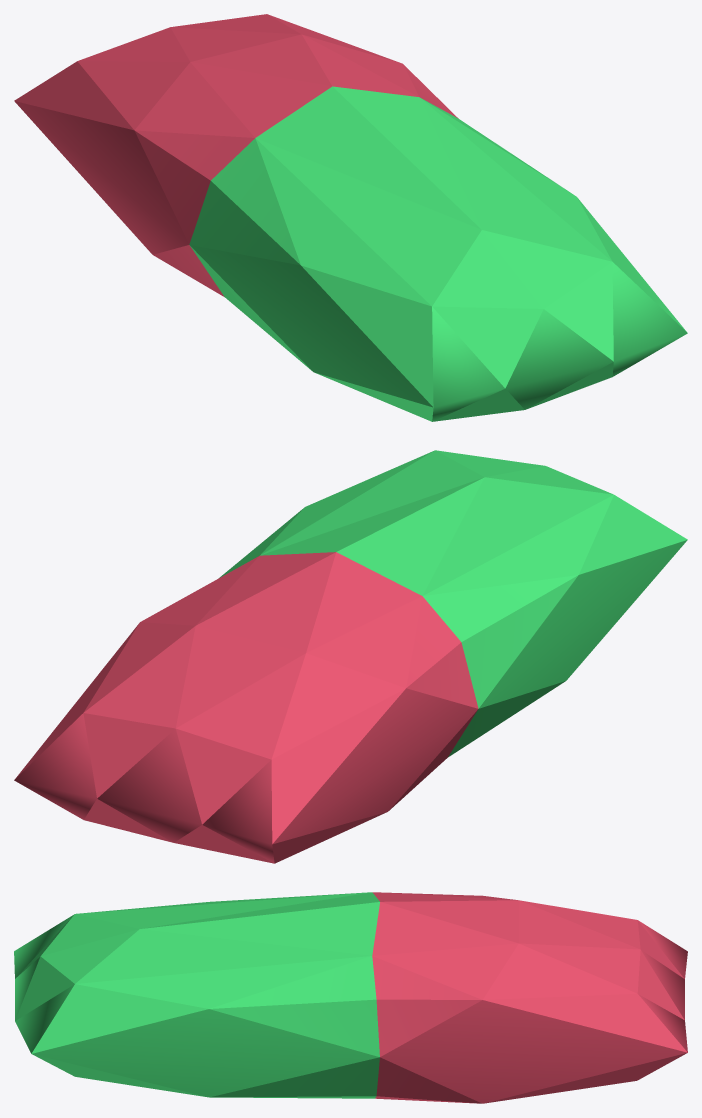
File: Snack6.fbx
3 renders of one model, top to bottom at view 1: azimuth 30°, elevation 25°; view 2: azimuth 150°, elevation 25°; view 3: azimuth 270°, elevation 25°, orthographic. The views are drawn at different scales.
Parts seen in each view (by area): view 1: Snack6; view 2: Snack6; view 3: Snack6.
Boxes of the visible parts, x1,y1,x2,y2 form: Snack6: [14, 14, 687, 421]; Snack6: [14, 450, 687, 863]; Snack6: [14, 892, 687, 1103].
Bounding box in the file's own units: 11.46 × 8.81 × 28.75.
